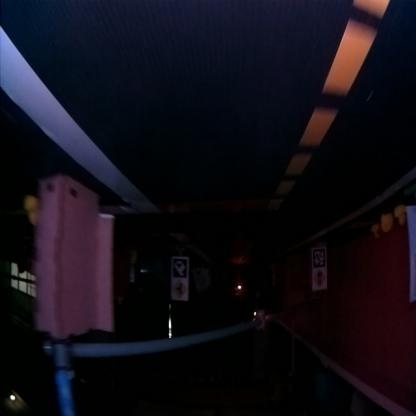Duckie: (24, 195, 39, 227), (395, 205, 407, 227), (381, 215, 394, 233), (372, 226, 381, 240)
Intersection sign: (174, 280, 188, 300)
QR code: (172, 258, 188, 279), (313, 249, 327, 268)
Signal sign: (314, 272, 328, 290)
Traffic light: (255, 312, 266, 326)
